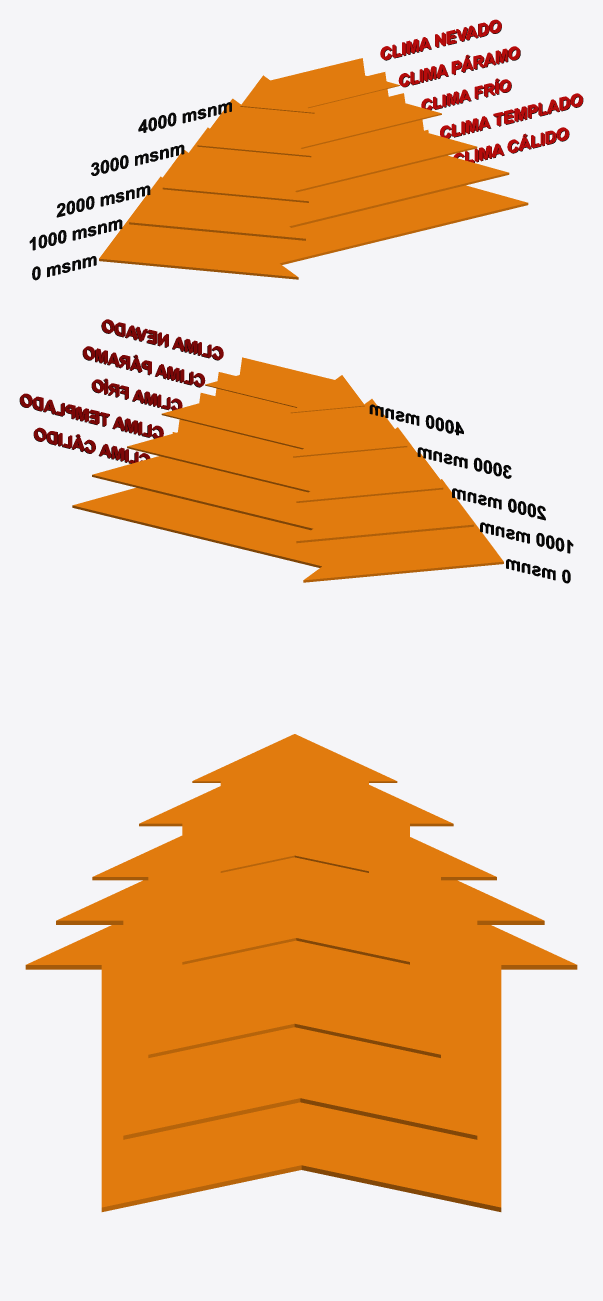
File: flechas.fbx
3 views of the same model, one above another, from view 1: azimuth 30°, elevation 25°; view 2: azimuth 150°, elevation 25°; view 3: azimuth 270°, elevation 25° (orthographic). The views are drawn at different scales.
Parts seen in each view (by area): view 1: polySurface338; view 2: polySurface338; view 3: polySurface338.
Boxes of the visible parts, <box> form: polySurface338: <box>29,19,583,280</box>; polySurface338: <box>19,319,573,583</box>; polySurface338: <box>25,734,577,1211</box>.
Size of the model in its own units: 8.69 by 3.63 by 2.21.
